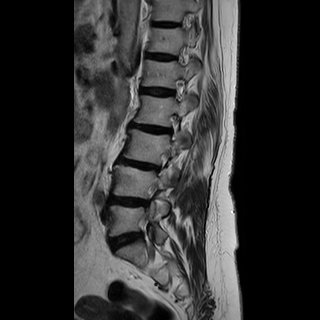LFS0: (165, 72, 191, 106), (162, 110, 185, 143)
